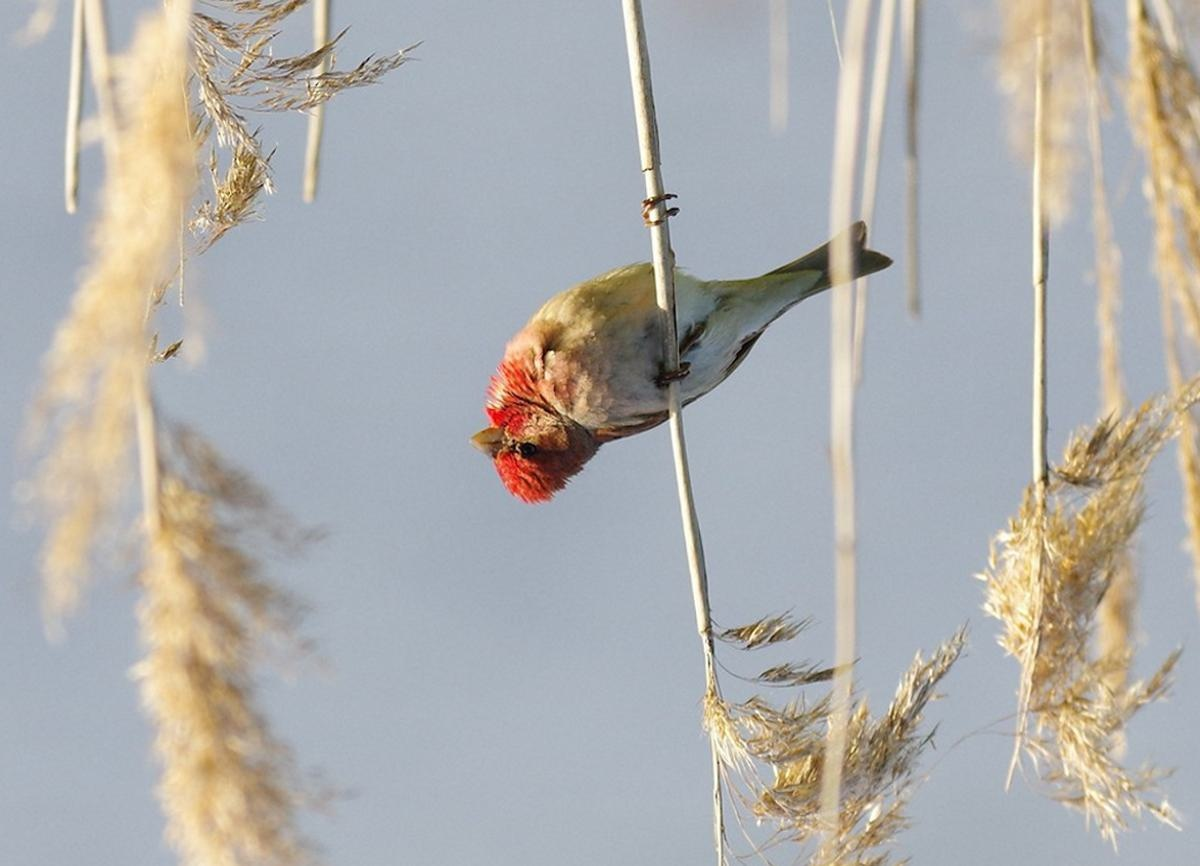rosefinch: (458, 201, 919, 525)
